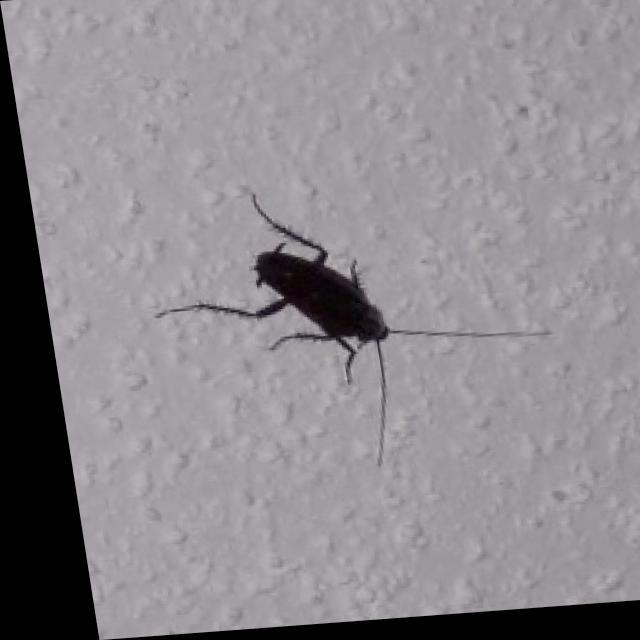cockroach: (150, 190, 555, 469)
